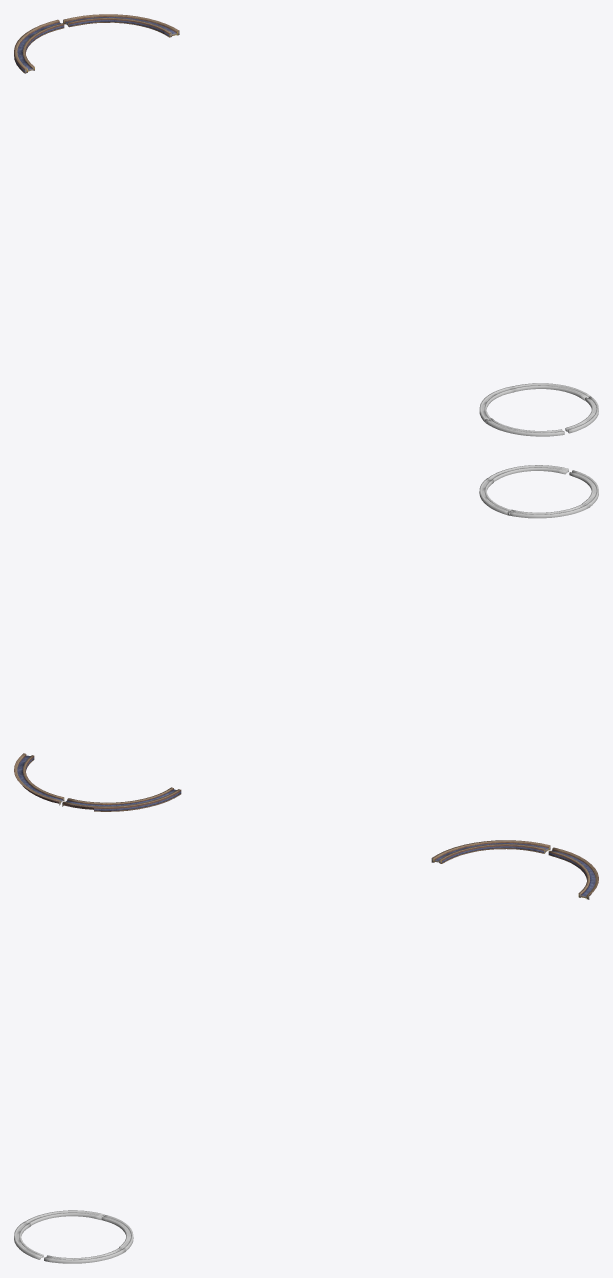
The model's file is S_Build_City090_A.FBX.
The picture shows the model from 3 angles, top to bottom: view 1: azimuth 30°, elevation 25°; view 2: azimuth 150°, elevation 25°; view 3: azimuth 330°, elevation 25°; orthographic projection.
Parts seen in each view (by area): view 1: S_Build_City090_005, S_Build_City090_006; view 2: S_Build_City090_006, S_Build_City090_005, S_Build_City090_003, S_Build_City090_001; view 3: S_Build_City090_006, S_Build_City090_005.
Boxes of the visible parts, left/top/right/bottom form: S_Build_City090_005: left=63, top=14, right=179, bottom=37; S_Build_City090_006: left=14, top=19, right=64, bottom=73; S_Build_City090_006: left=62, top=787, right=181, bottom=811; S_Build_City090_005: left=14, top=753, right=64, bottom=805; S_Build_City090_003: left=507, top=503, right=590, bottom=518; S_Build_City090_001: left=488, top=465, right=568, bottom=481; S_Build_City090_006: left=431, top=840, right=550, bottom=863; S_Build_City090_005: left=548, top=847, right=598, bottom=899.
Size of the model in its own units: 3241 by 18279 by 846.
